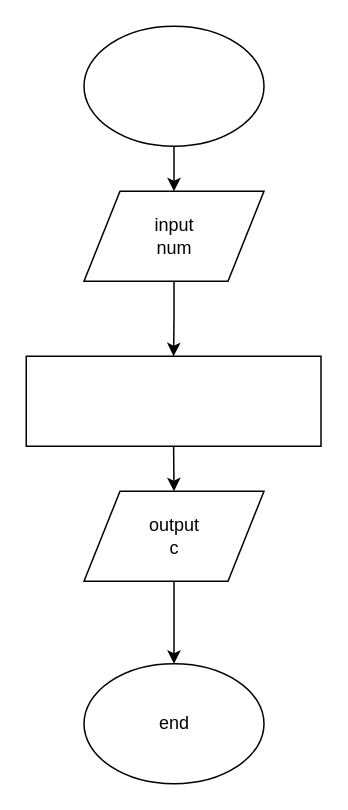
The diagram is 348 pixels wide and 810 high, and some of its shapes have lost their labels. Here are the shapes that lost their labels. From the top down, the centre of each, then its label:
At point (173, 85): "start".
At point (173, 400): "c = string.ascii_lowercase[num-1]".
